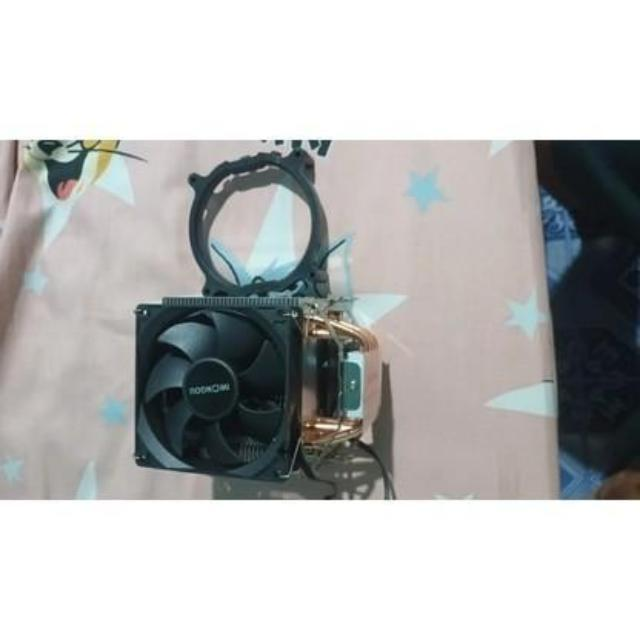CPU_Fan: (133, 297, 379, 486)
